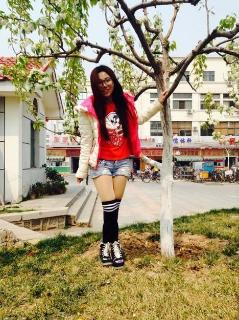short sleeve top: (82, 94, 134, 161)
shorts: (90, 150, 131, 178)
